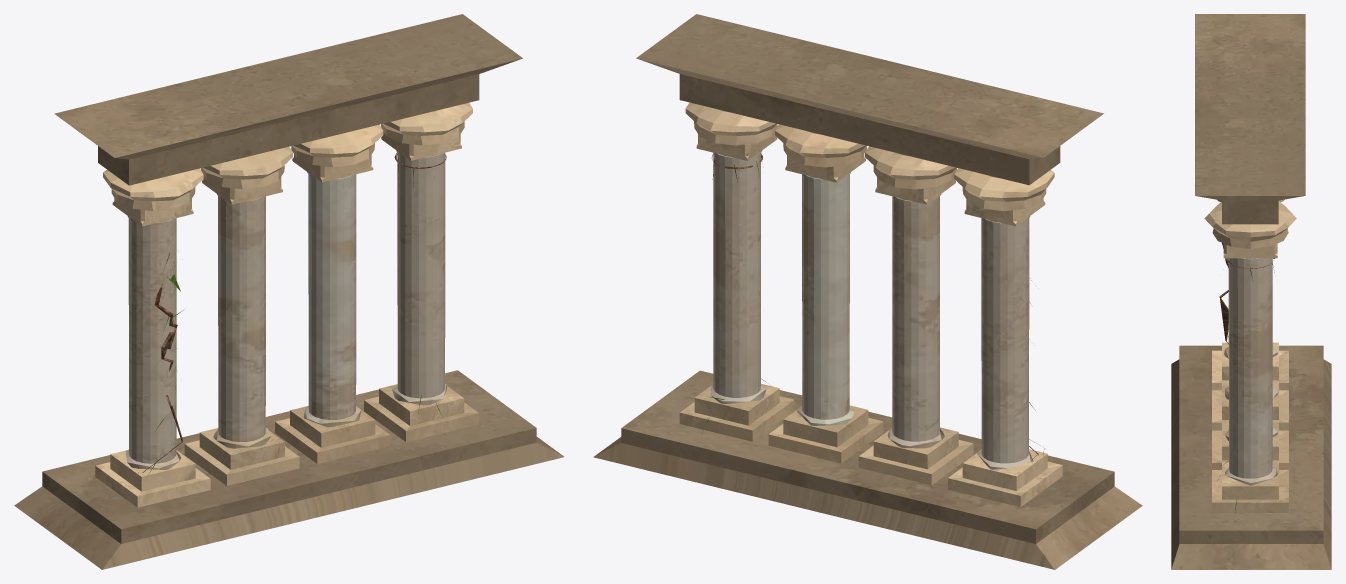
Rendered from pillars_with_vines.glb.
3 views of the same model, side by side, from view 1: azimuth 30°, elevation 25°; view 2: azimuth 150°, elevation 25°; view 3: azimuth 270°, elevation 25° (orthographic). The views are drawn at different scales.
Parts seen in each view (by area): view 1: Ruin; view 2: Ruin; view 3: Ruin.
Part boxes in pixels (<box>): Ruin: <box>14,14,564,569</box>; Ruin: <box>593,14,1142,569</box>; Ruin: <box>1171,14,1331,569</box>.
Bounding box in the file's own units: 0.2181 × 0.1784 × 0.0718.
Materials: 3 (3 with a texture image).
